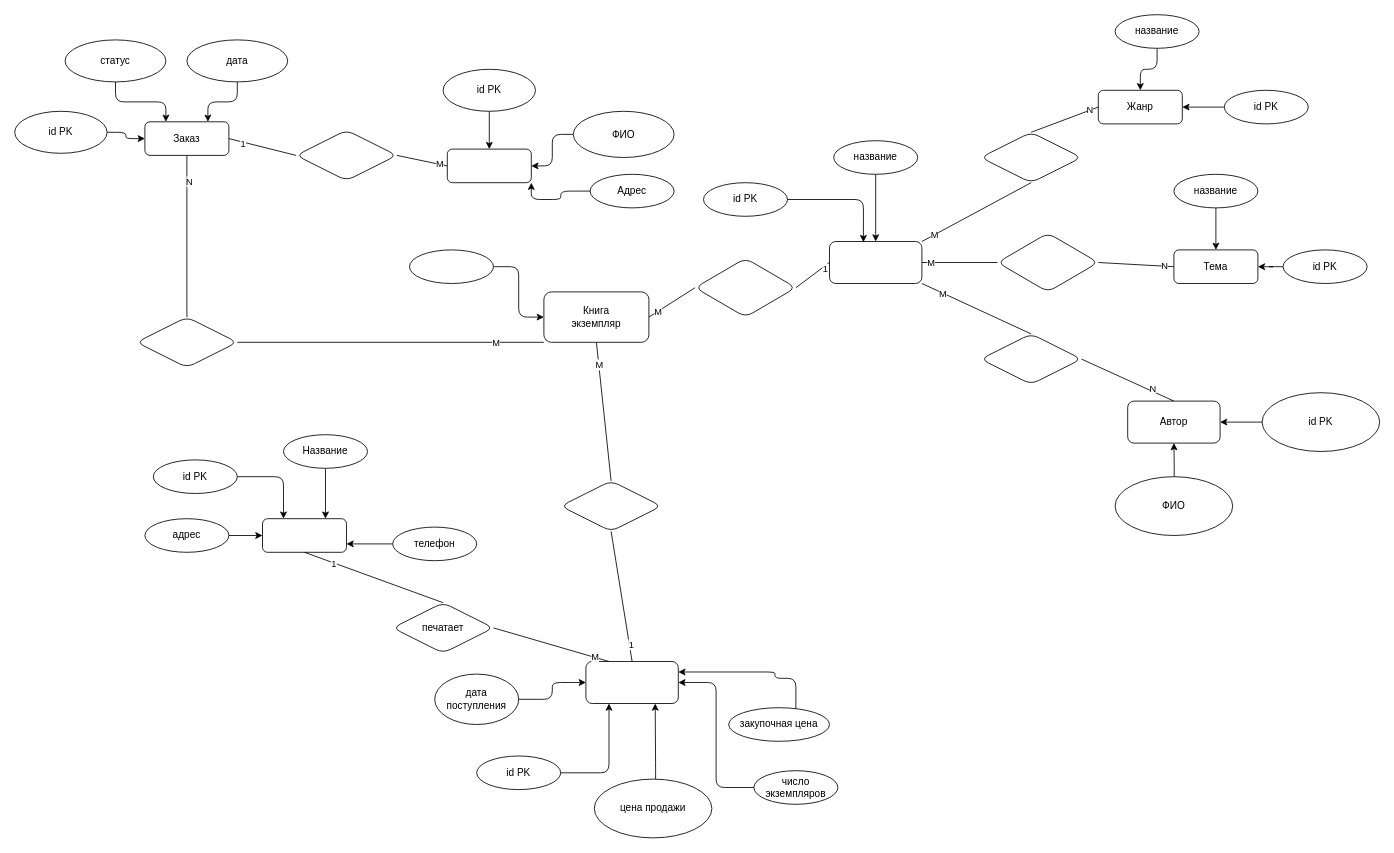
This 1394x853 diagram has some shape labels left out. Each missing label, with the box of its shape:
издается: (560, 480, 662, 531)
Издательство: (262, 518, 346, 552)
имеет жанр: (980, 131, 1082, 183)
Книга образец: (829, 241, 922, 284)
написал: (980, 333, 1082, 384)
Покупатель: (446, 148, 531, 183)
принадлежит к теме: (997, 232, 1098, 292)
продается: (136, 316, 237, 368)
реализует: (694, 257, 796, 317)
создает: (295, 129, 397, 181)
Тираж книги: (585, 661, 678, 704)
шифр PK: (409, 249, 494, 284)
